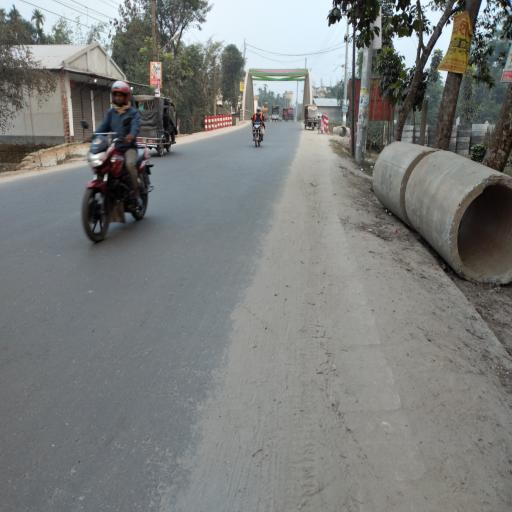auto rickshaw: (134, 91, 181, 160), (305, 105, 319, 132), (272, 106, 281, 124)
bicycle: (318, 117, 326, 137)
motorbike: (80, 84, 155, 249), (251, 107, 266, 149)
rickshaw: (263, 108, 270, 123), (283, 108, 290, 122), (289, 109, 295, 123)
